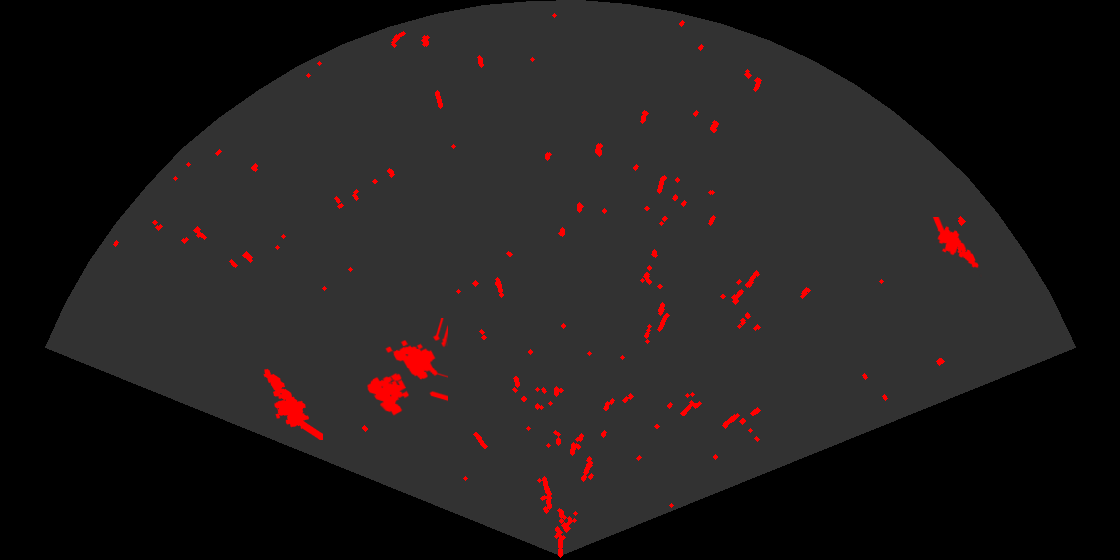cage: (365, 318, 448, 417)
frogman: (262, 367, 323, 440), (931, 217, 982, 278)
